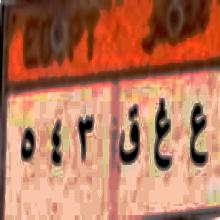3: (75, 110, 97, 166)
4: (48, 115, 66, 173)
5: (19, 124, 38, 175)
ain: (183, 97, 209, 173)
ghayn: (153, 97, 173, 180)
qaaf: (118, 101, 142, 171)
